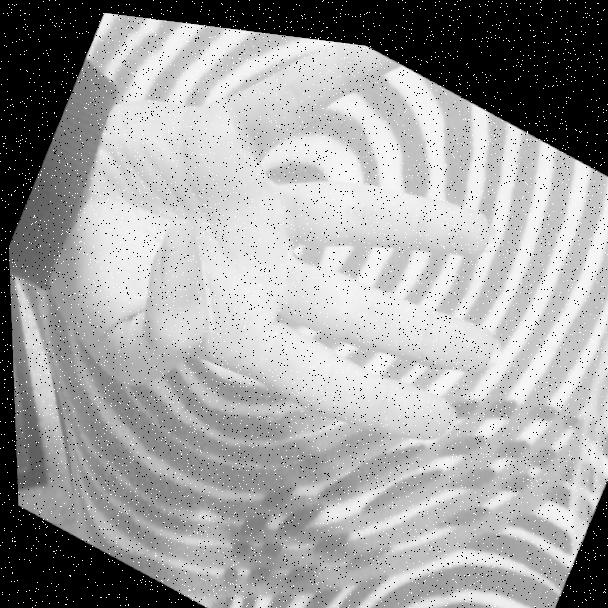four: (0, 0, 585, 556)
